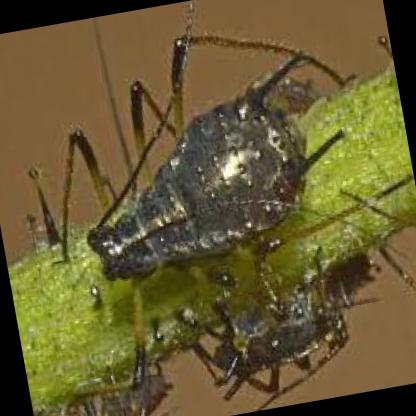uroleucon compositae: (89, 35, 308, 282)
